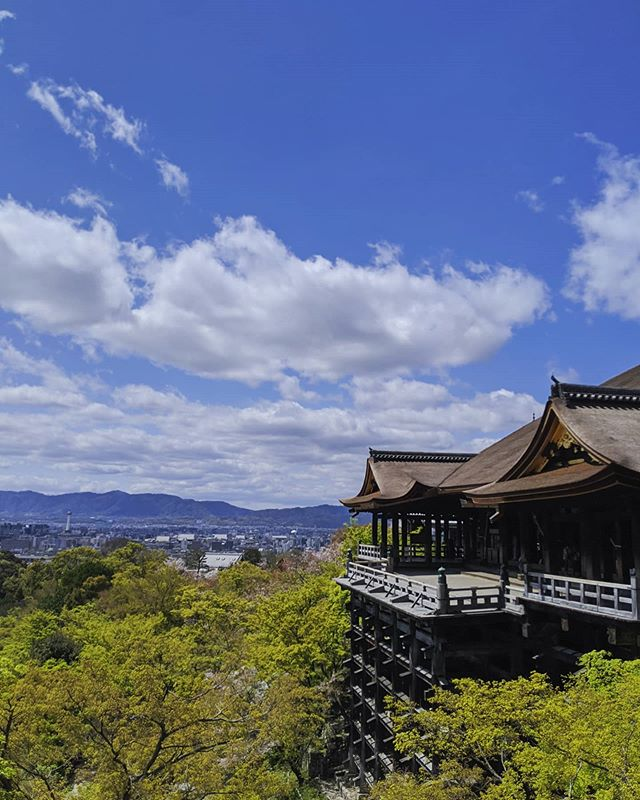building: (357, 399, 640, 800)
sky: (11, 1, 640, 482)
vegetation: (1, 570, 337, 800), (390, 653, 640, 800)
